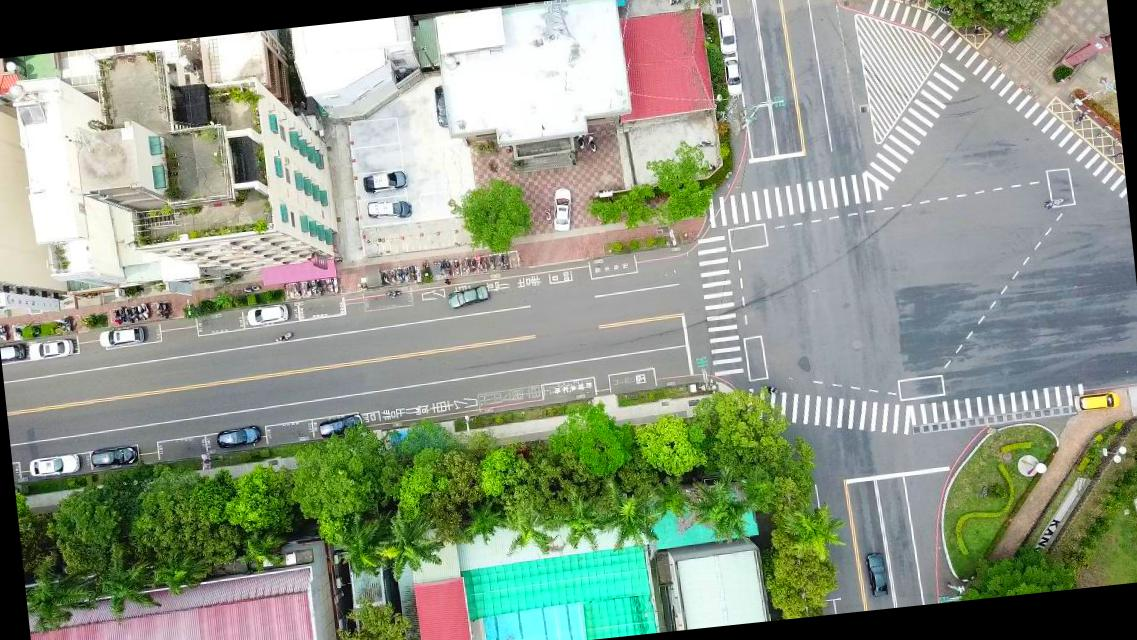vehicle: (29, 452, 82, 479), (1072, 388, 1122, 414), (548, 186, 576, 232), (362, 168, 408, 196), (364, 194, 413, 220), (98, 323, 147, 349), (27, 336, 75, 362), (88, 443, 136, 469), (214, 424, 262, 449), (317, 414, 366, 438), (446, 284, 491, 310), (245, 302, 290, 328), (866, 549, 889, 599), (715, 12, 738, 56), (722, 54, 743, 96), (433, 83, 448, 130), (0, 340, 27, 360)
